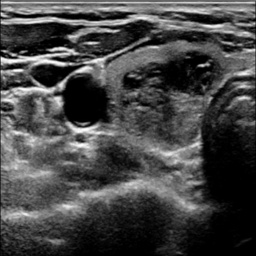mass: (123, 51, 222, 147)
